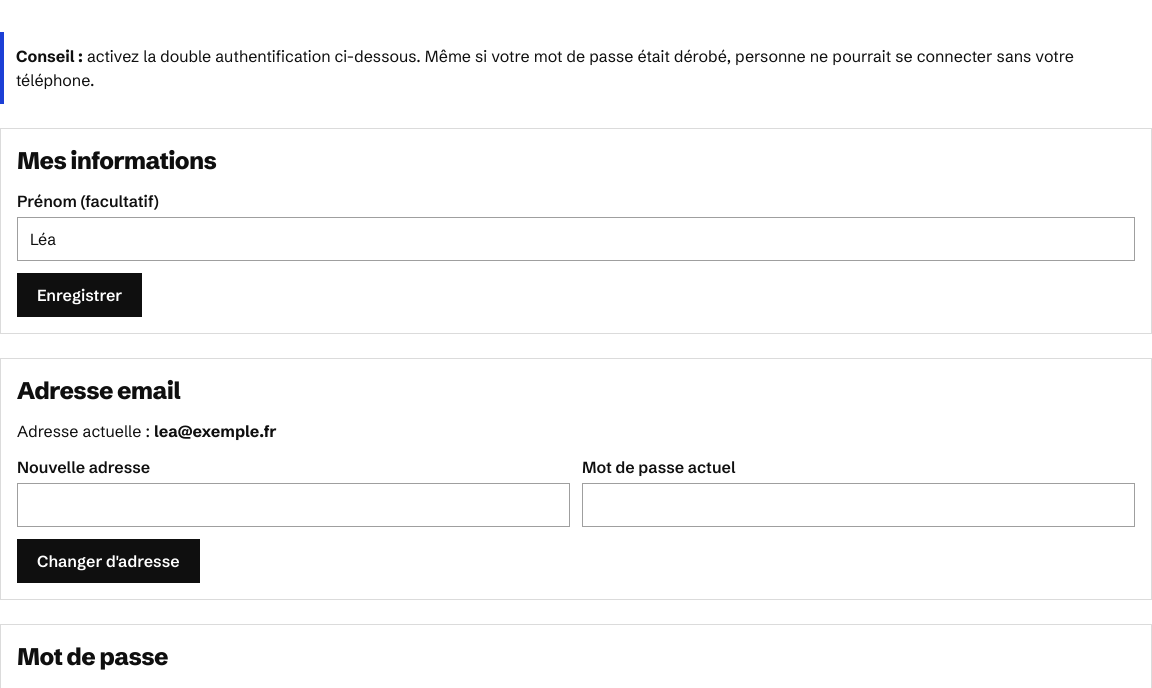
Test: AccountSettings : informations › erreur de l'API : message affiché, pas de rafraîchissement
Click the button "Enregistrer" at (80, 295), box [17, 273, 142, 317]
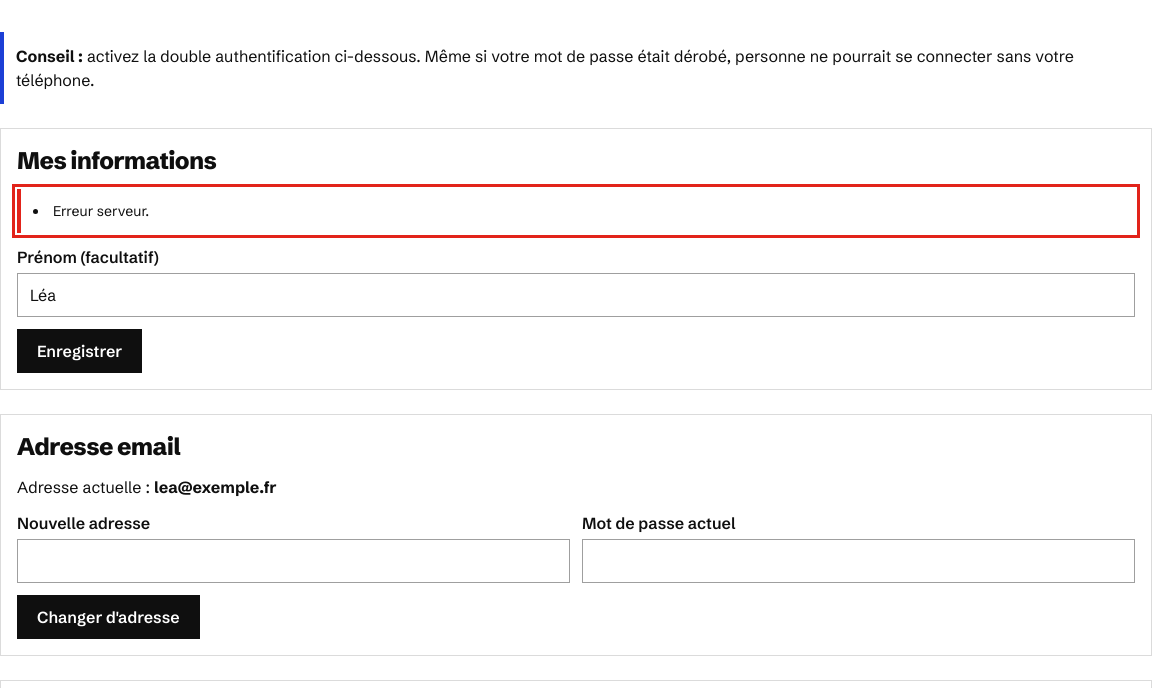
Expected: the message reads "Erreur serveur.", [53, 202, 149, 220]
